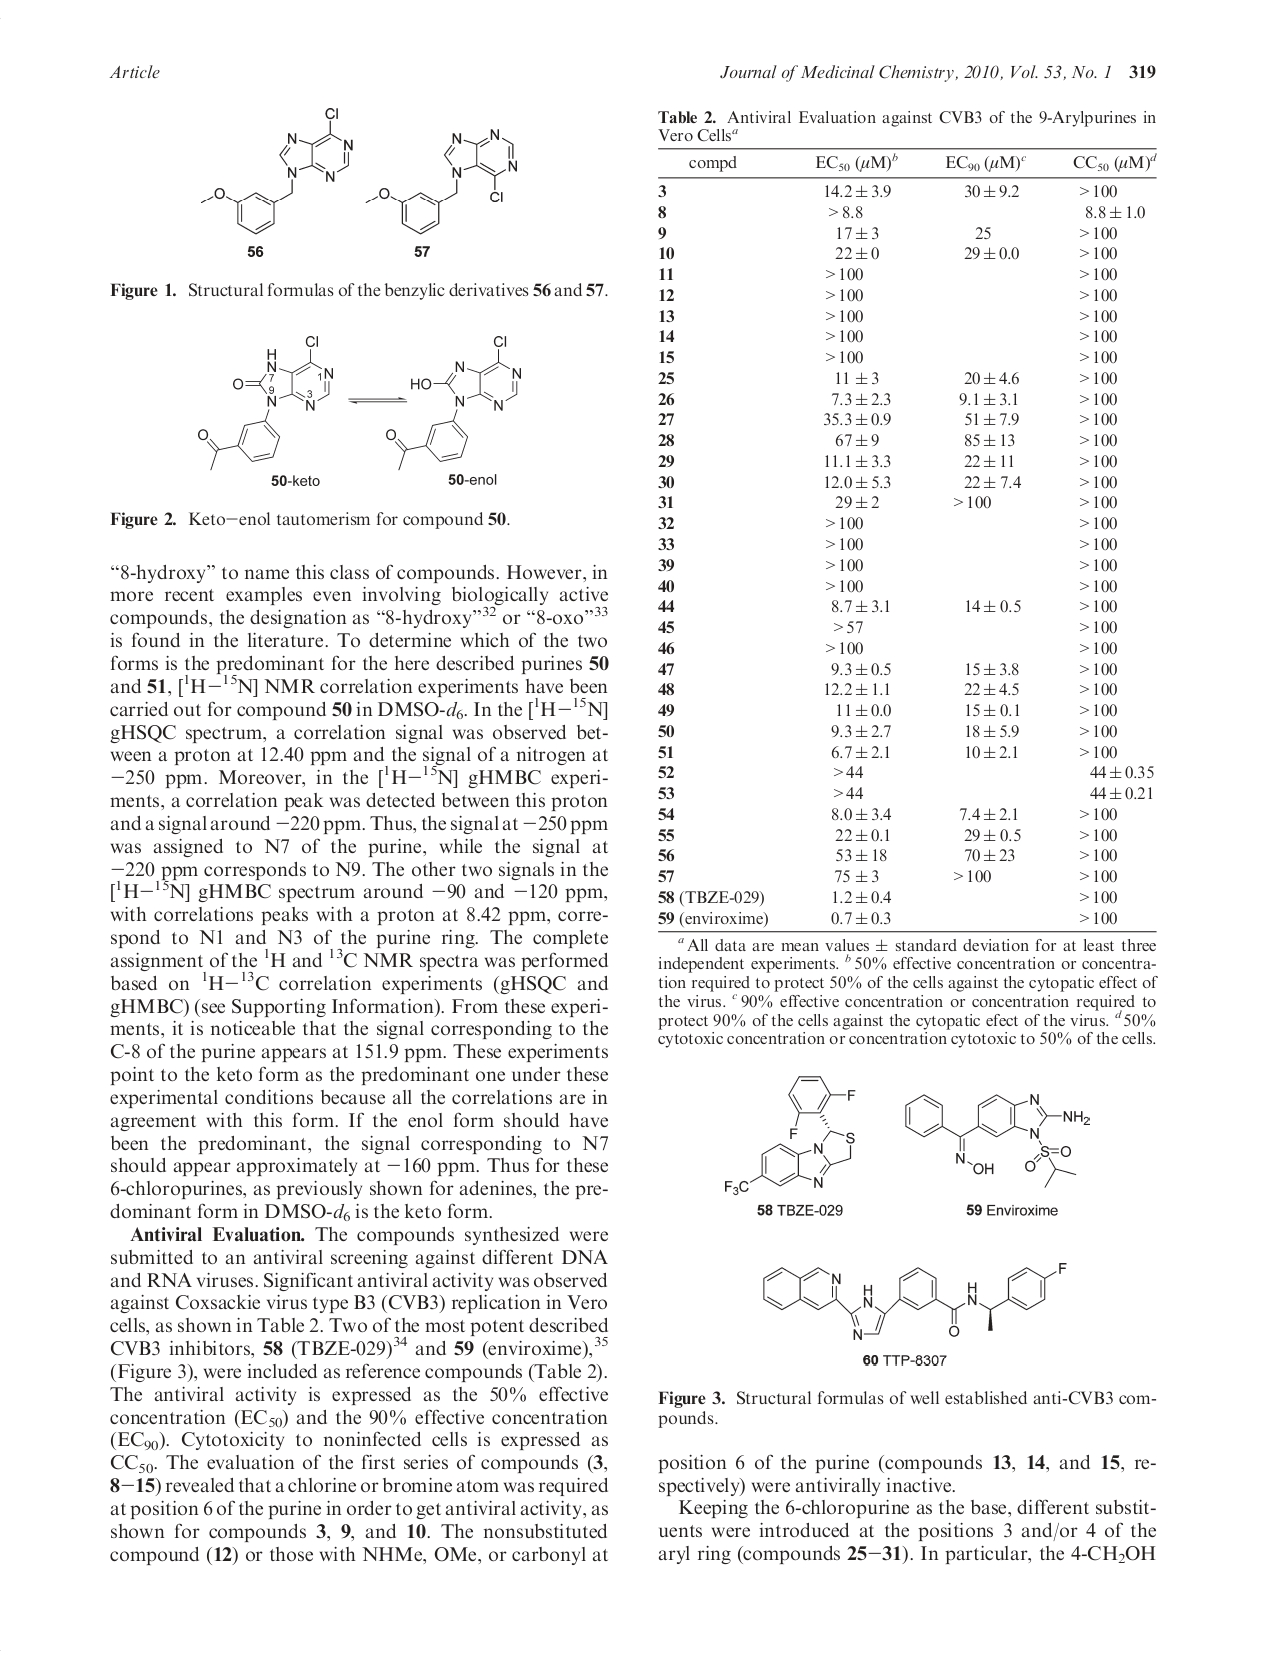exist_molecular: (759, 1259, 1071, 1341), (199, 106, 354, 237), (382, 332, 524, 471), (195, 334, 335, 471), (903, 1092, 1092, 1188), (721, 1073, 856, 1198), (364, 128, 519, 235)
